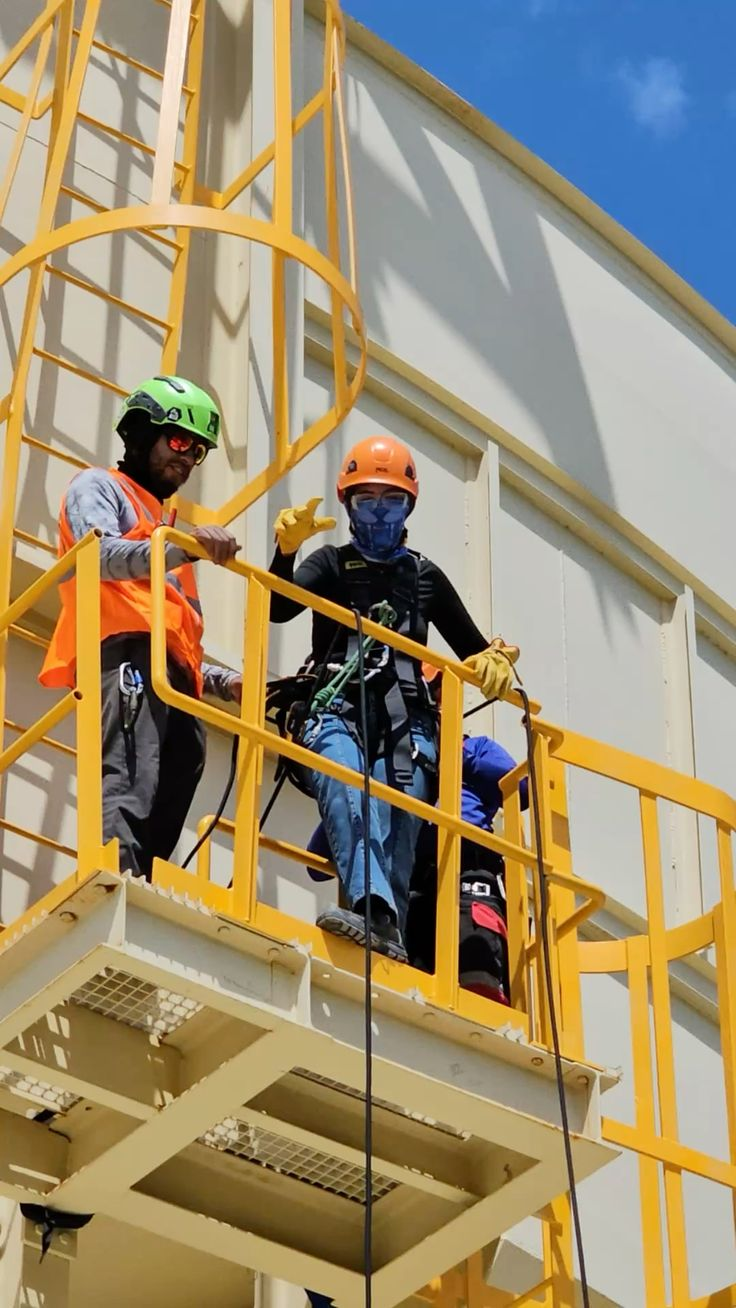hardhat: (135, 358, 248, 455), (322, 432, 449, 493)
no_safety_vest: (290, 534, 463, 709)
person: (283, 422, 544, 993), (28, 316, 226, 934)
safety_vest: (57, 485, 192, 680)
